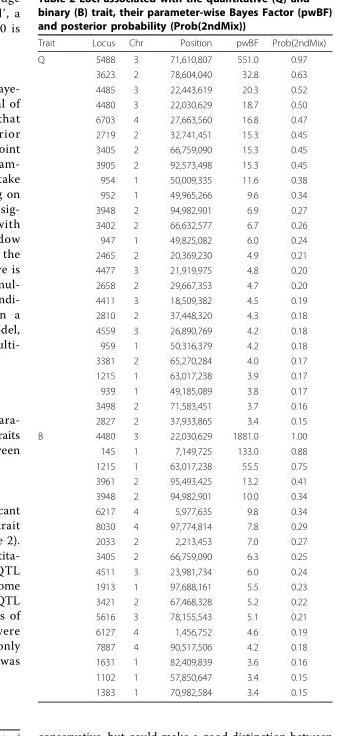table: (36, 36, 325, 697)
table column: (155, 36, 221, 697), (264, 36, 325, 697), (72, 36, 121, 697), (221, 36, 264, 697), (36, 36, 72, 697), (121, 36, 155, 697)
table column header: (36, 36, 325, 50)
table row: (36, 50, 325, 66), (36, 186, 325, 202), (36, 427, 325, 443), (36, 653, 325, 669), (36, 66, 325, 81), (36, 81, 325, 96), (36, 96, 325, 111), (36, 111, 325, 126), (36, 126, 325, 141), (36, 141, 325, 156), (36, 156, 325, 171), (36, 171, 325, 186), (36, 202, 325, 217), (36, 217, 325, 232), (36, 232, 325, 247), (36, 247, 325, 262), (36, 262, 325, 277), (36, 277, 325, 292), (36, 292, 325, 307), (36, 307, 325, 322), (36, 322, 325, 337), (36, 337, 325, 352), (36, 352, 325, 367), (36, 367, 325, 382), (36, 382, 325, 397), (36, 397, 325, 412), (36, 412, 325, 427), (36, 443, 325, 458), (36, 458, 325, 473), (36, 473, 325, 488), (36, 488, 325, 503), (36, 503, 325, 518), (36, 518, 325, 533), (36, 533, 325, 548), (36, 548, 325, 563), (36, 563, 325, 578), (36, 578, 325, 593), (36, 593, 325, 608), (36, 608, 325, 623), (36, 623, 325, 638), (36, 638, 325, 653), (36, 669, 325, 684), (36, 36, 325, 50), (36, 684, 325, 697)
table spanning cell: (36, 50, 72, 427), (36, 427, 72, 697)
